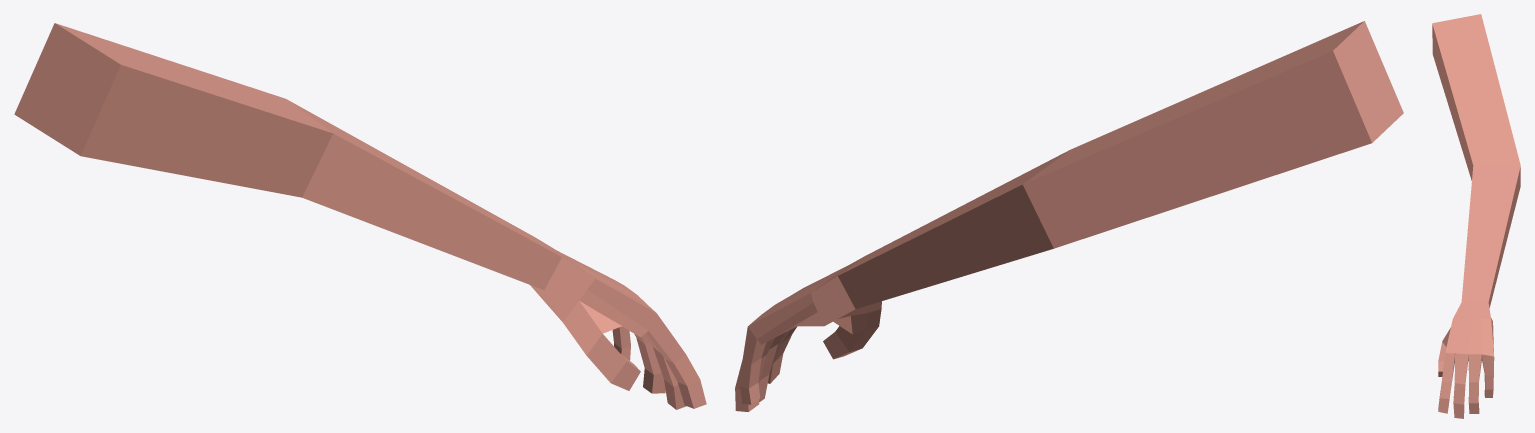
File: left_hand.fbx
3 views of the same model, side by side, from view 1: azimuth 30°, elevation 25°; view 2: azimuth 150°, elevation 25°; view 3: azimuth 270°, elevation 25° (orthographic). The views are drawn at different scales.
Parts seen in each view (by area): view 1: Cube.001; view 2: Cube.001; view 3: Cube.001.
Boxes of the visible parts, bbox=[...] form: Cube.001: bbox=[14, 23, 706, 409]; Cube.001: bbox=[735, 21, 1403, 411]; Cube.001: bbox=[1432, 14, 1520, 418].
Bounding box in the file's own units: 64.42 × 48.6 × 15.2.
